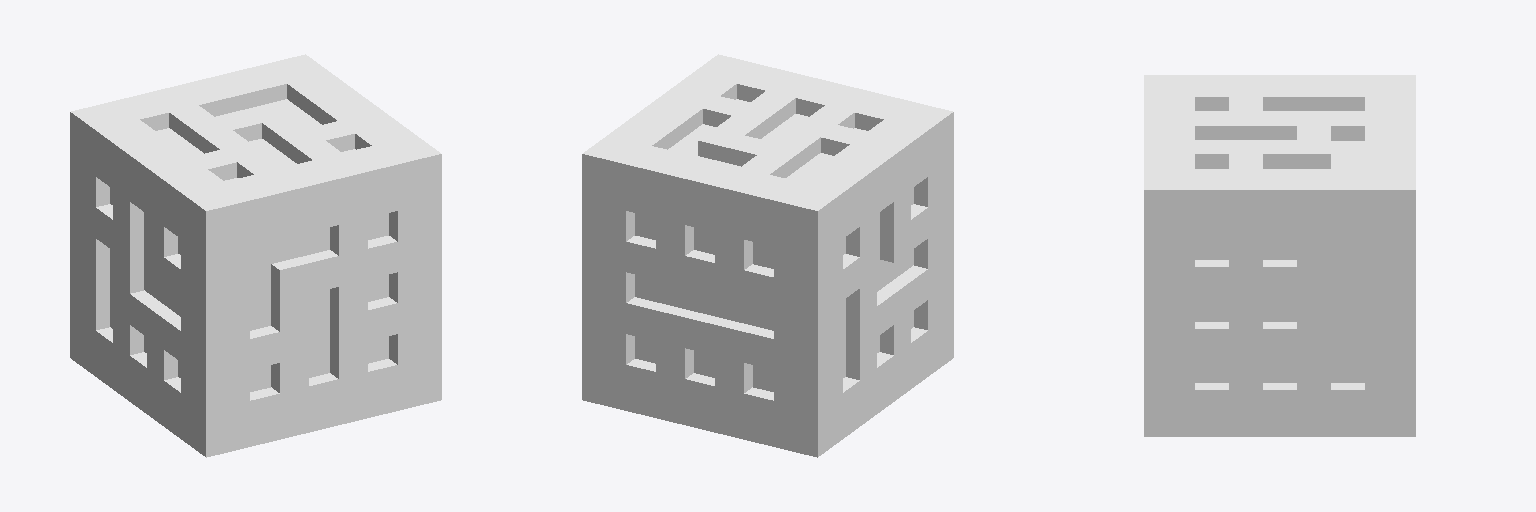
Rendered from tt-garden.obj.
3 views of the same model, side by side, from view 1: azimuth 30°, elevation 25°; view 2: azimuth 150°, elevation 25°; view 3: azimuth 270°, elevation 25° (orthographic).
Size of the model in its own units: 16 by 16 by 16.